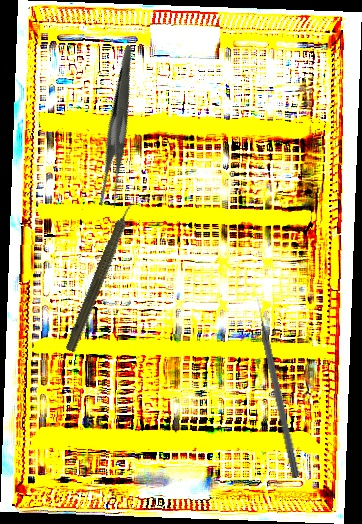Dressing Forceps: (58, 44, 182, 212)
Handpiece: (62, 192, 144, 355)
Pusher: (253, 295, 302, 479)
